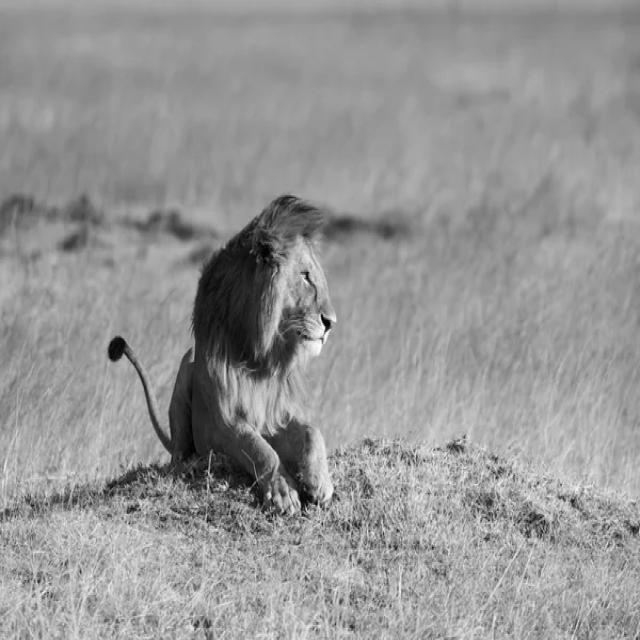Animal: (137, 187, 351, 504)
